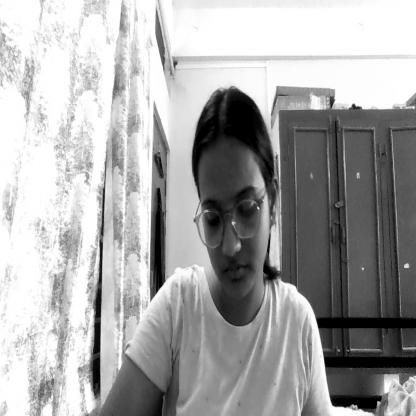Distracted: (190, 92, 279, 301)
